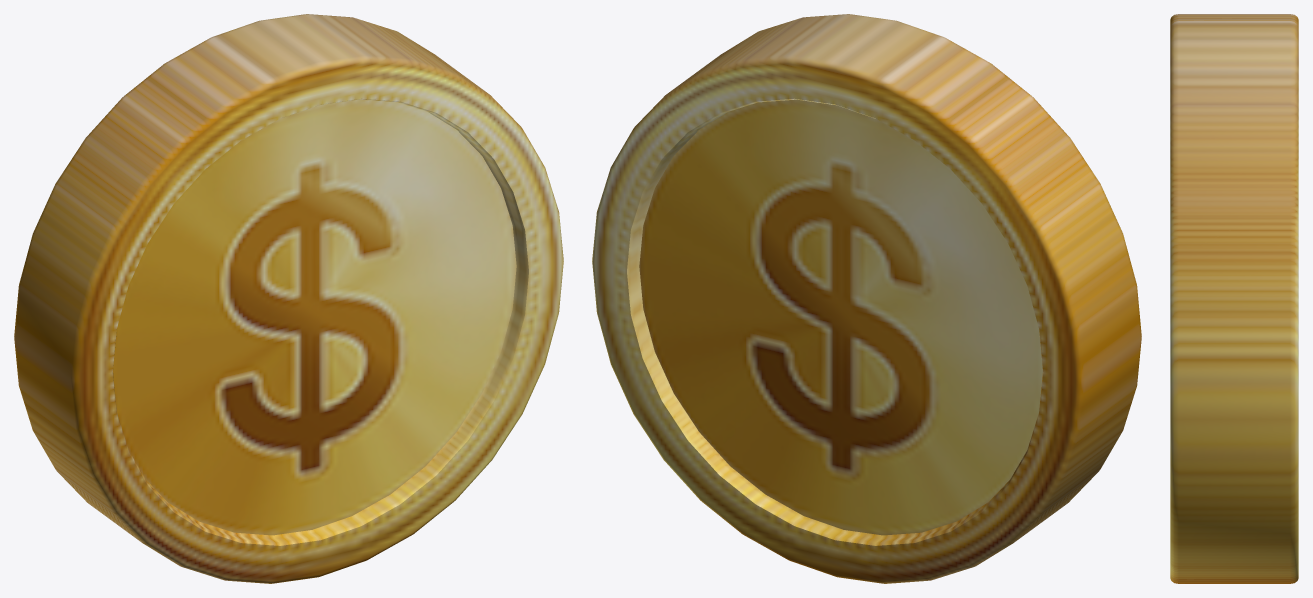
The model's file is Coin.fbx.
The picture shows the model from 3 angles, left to right: view 1: azimuth 30°, elevation 25°; view 2: azimuth 150°, elevation 25°; view 3: azimuth 270°, elevation 25°; orthographic projection.
Parts seen in each view (by area): view 1: coin; view 2: coin; view 3: coin.
Boxes of the visible parts, bbox=[...] form: coin: bbox=[14, 14, 563, 583]; coin: bbox=[592, 14, 1141, 583]; coin: bbox=[1170, 14, 1298, 583].
Bounding box in the file's own units: 75 × 75 × 16.88.
